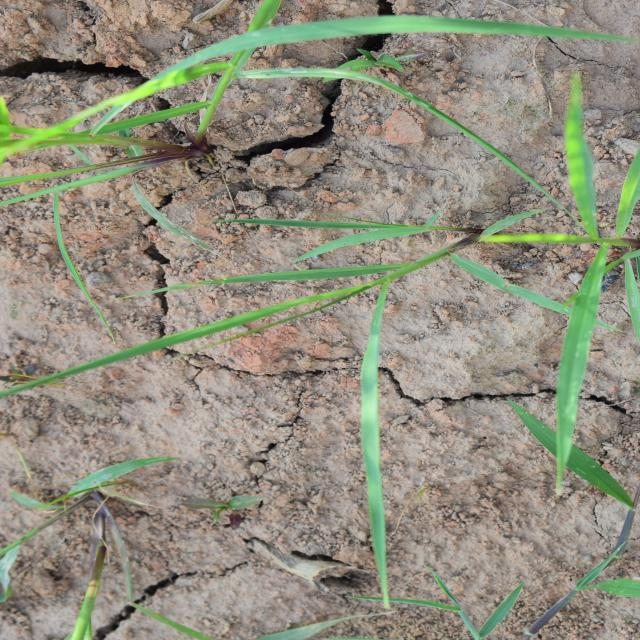green_foxtail: (165, 174, 454, 566)
